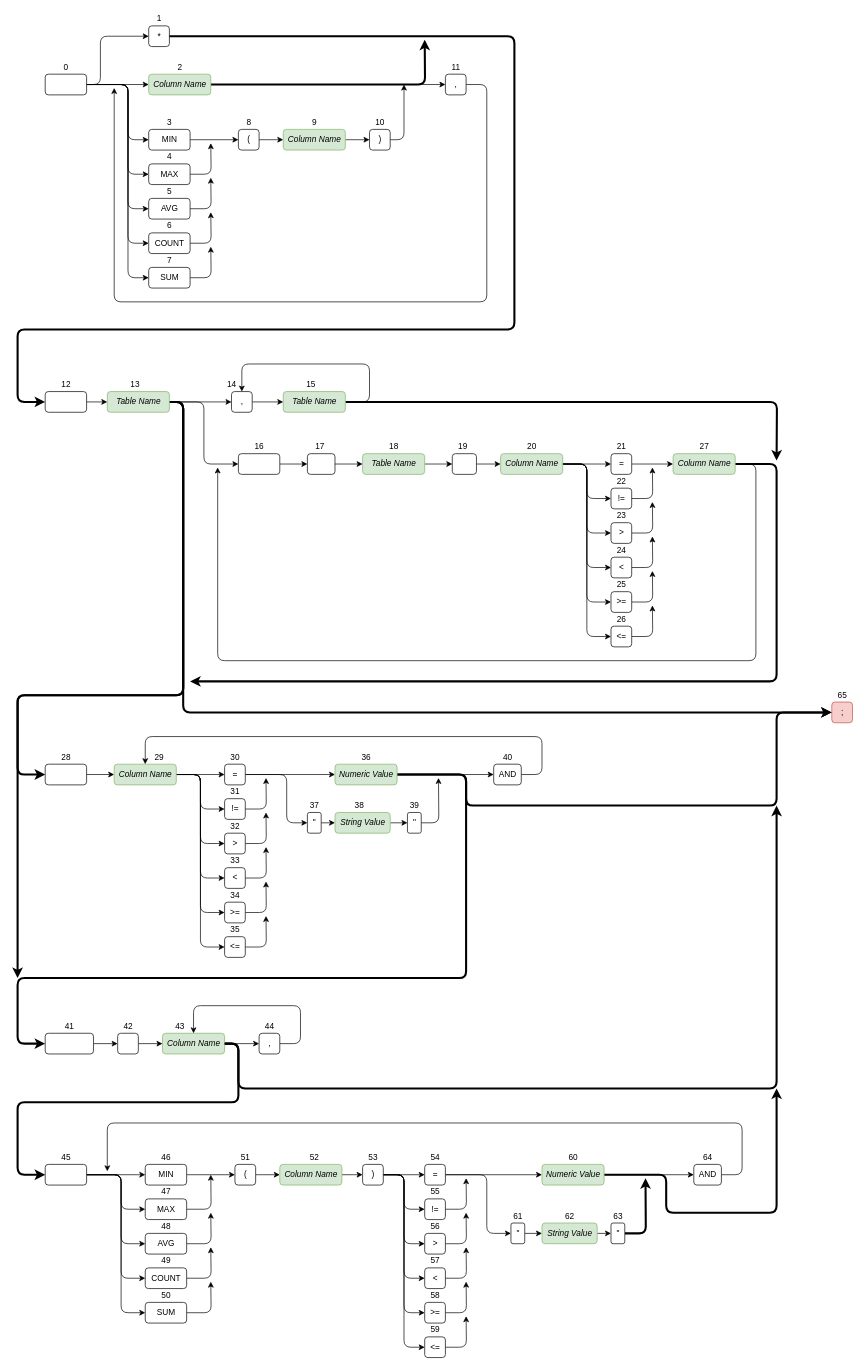
Image size: 865x1370. Some labels were removed from this diagram. The shapes that lost their labels are listed below. From the top down, each one's centre as x and y in pixels, then its label:
(x=66, y=84): SELECT
(x=66, y=401): FROM
(x=259, y=463): INNER
(x=321, y=463): JOIN
(x=464, y=463): ON
(x=66, y=774): WHERE
(x=69, y=1043): GROUP
(x=127, y=1043): BY
(x=66, y=1174): HAVING
